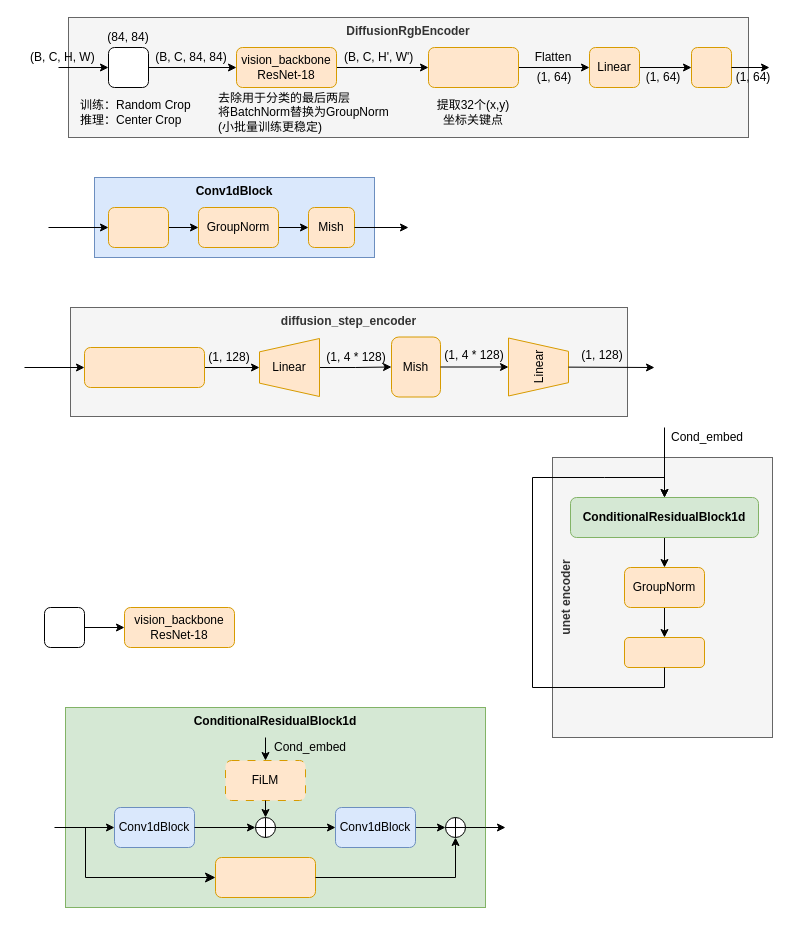
The diagram is 806 pixels wide and 925 high, and some of its shapes have lost their labels. The shapes that lost their labels are listed below. From the top down, each one's centre as x and y in pixels, then its label:
At [128,67]: "Crop".
At [473,67]: "pool SpatialSoftmax".
At [711,67]: "ReLu".
At [138,227]: "Conv1d".
At [144,367]: "SinusoidalPosEmb".
At [64,627]: "Image".
At [664,652]: "Cov1d".
At [265,877]: "residual conv Conv1d".
